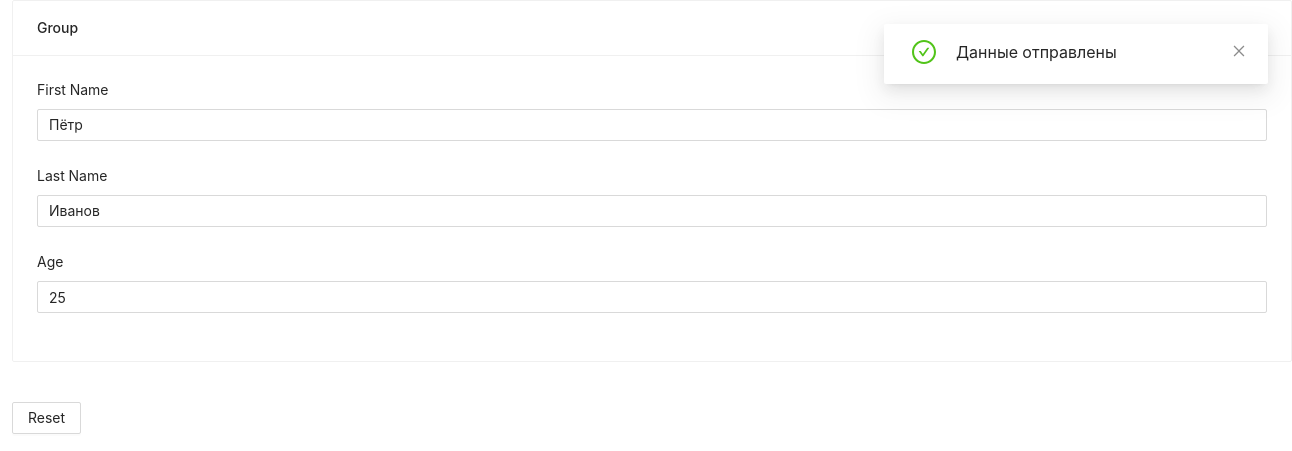
Scenario: FormGenerator › defaultValue из конфига полей › сброс формы должен возвращать к merged значениям (defaultValue + initialValues)
Step 1. Replace the text in the field with placeholder "Enter first name" below "First Name" with "Изменено" → (652, 125), box [37,109,1267,141]
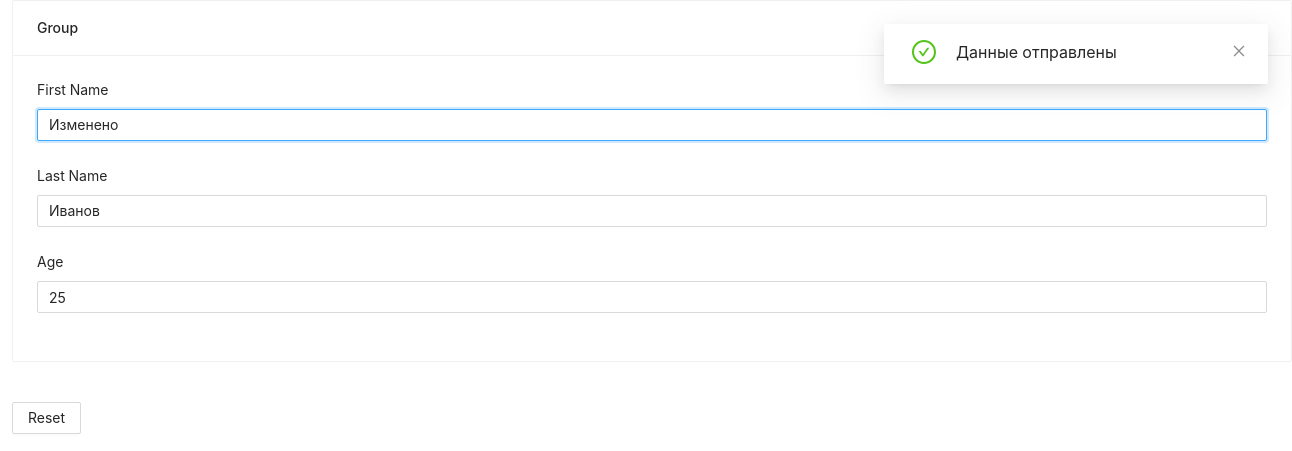
Step 2. Click the button "Reset" → (47, 418), box [12,402,81,434]
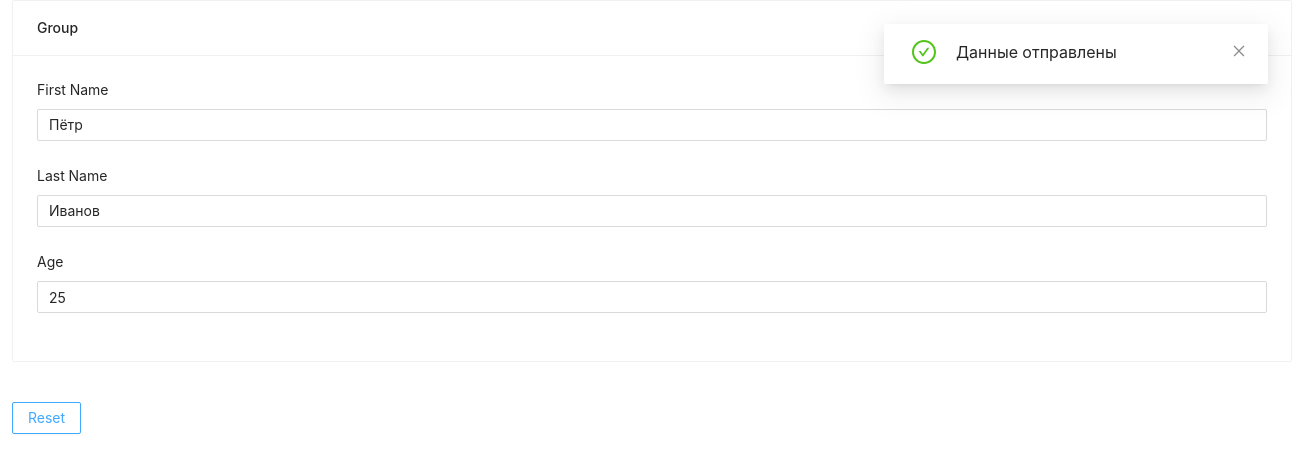
Check: the field with placeholder "Enter last name" below "Last Name" holds "Иванов", box [37,195,1267,227]
Check: the field with placeholder "Enter first name" below "First Name" holds "Пётр", box [37,109,1267,141]
